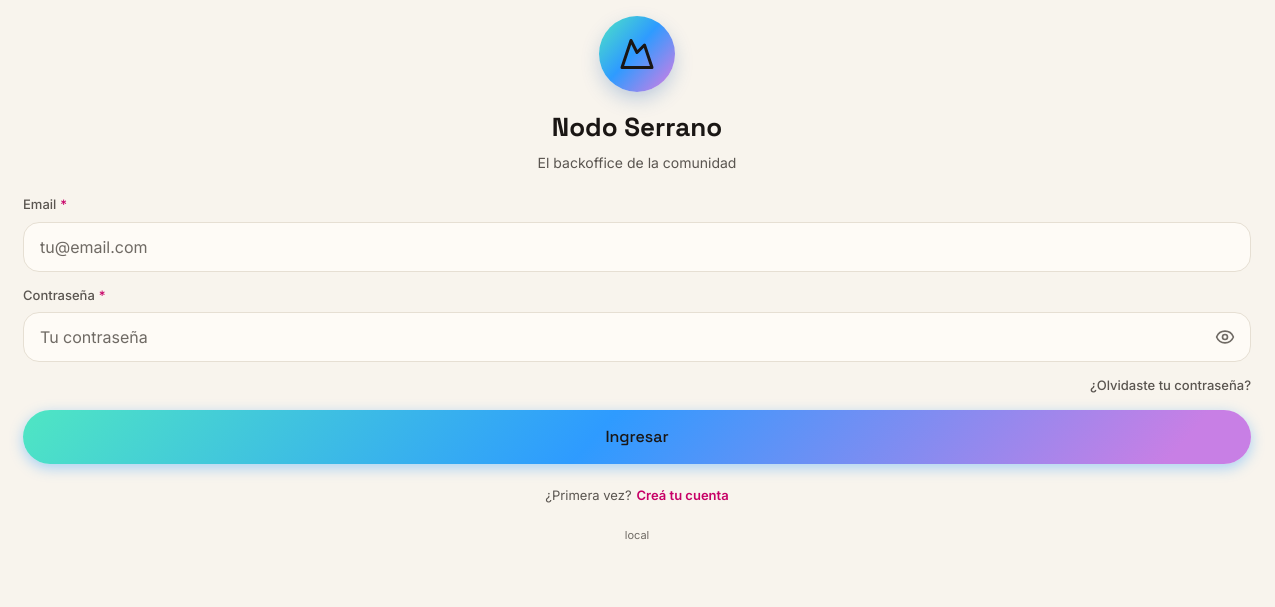
Test: LoginPage › keeps the typed email after a failed submission
Step 1. Type "user@test.com" into the field labelled "Email" → (637, 246), box [23, 222, 1251, 272]
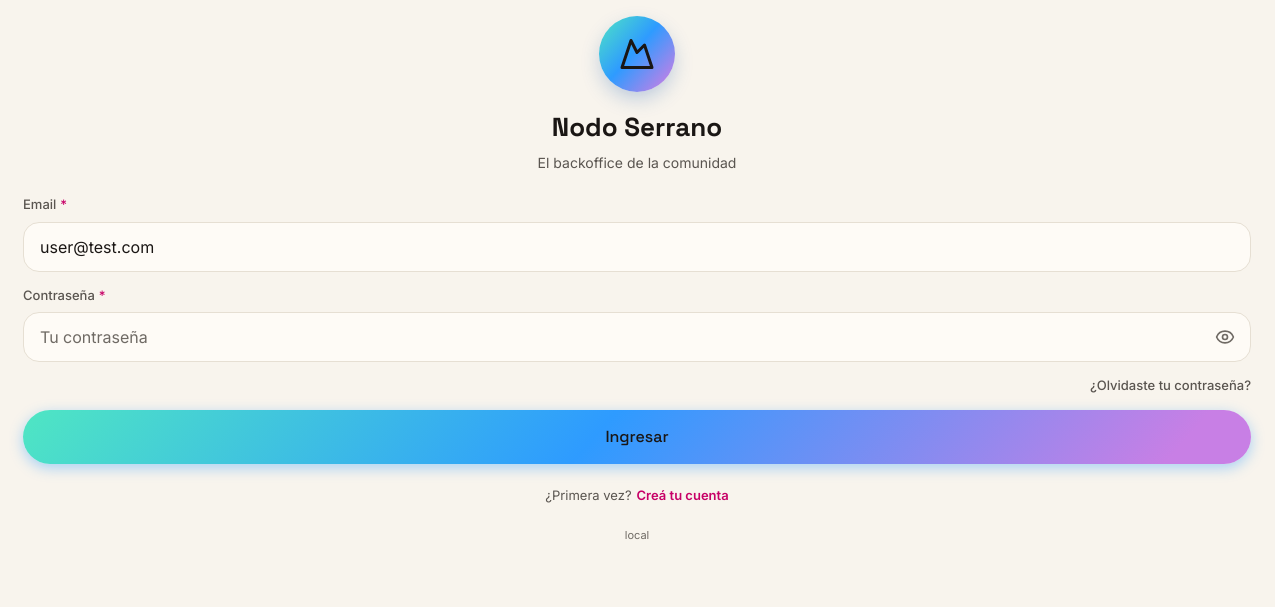
Step 2. Submit the form, box [23, 195, 1251, 464]
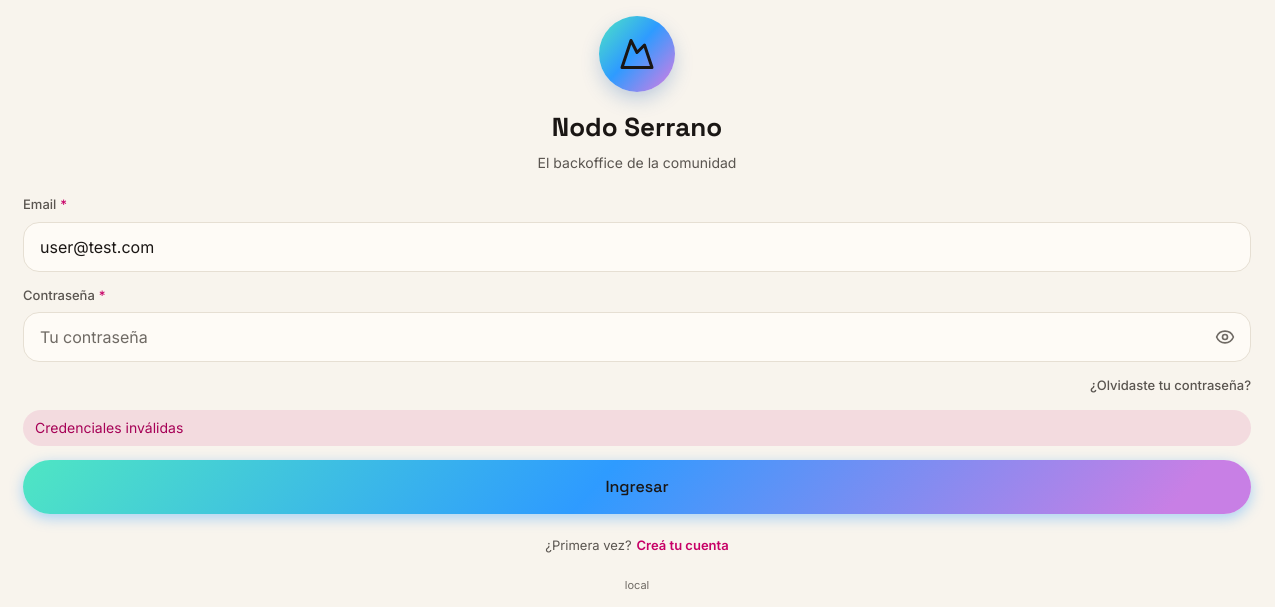
Check: the text "Credenciales inválidas" is shown, box [23, 410, 1251, 446]
